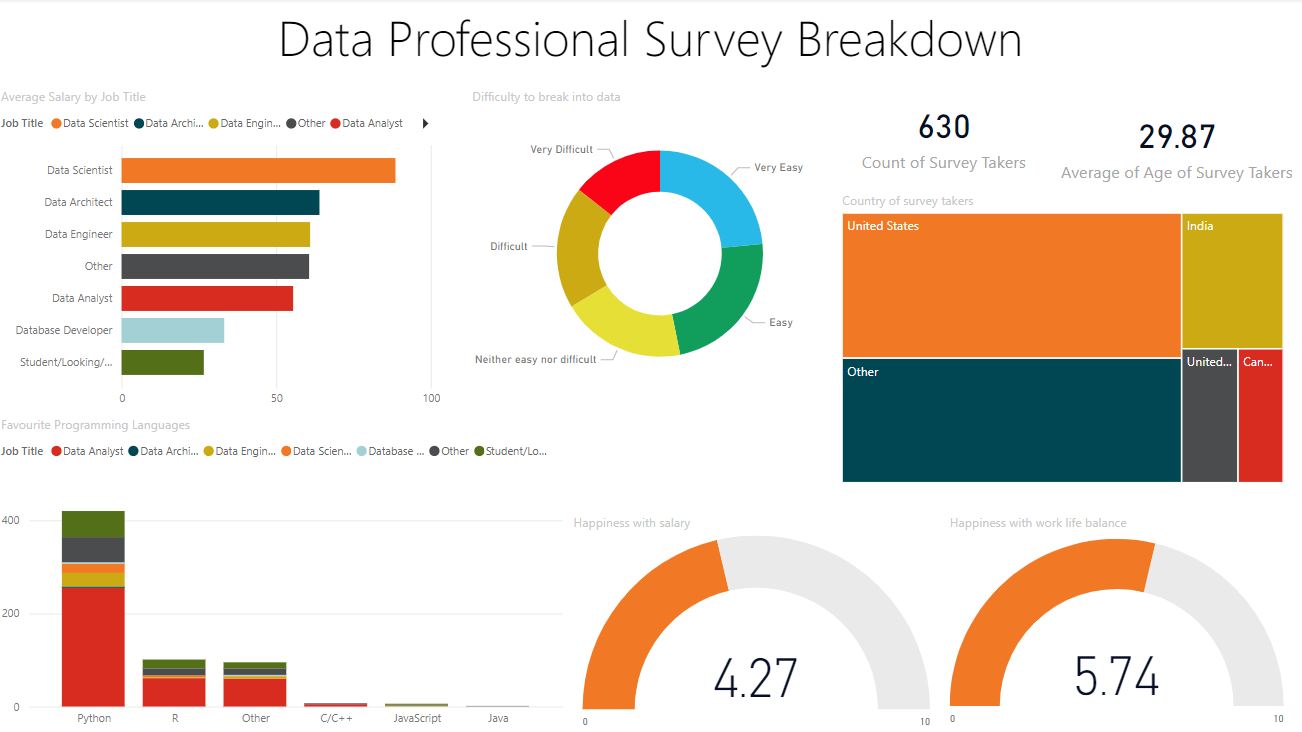

This screenshot's page, from the dashboard's own definition file:
{"tool":"powerbi","page":{"name":"Page 1","canvas":[1280,720],"ordinal":0},"visuals":[{"type":"textbox","box":[10,0,280,280],"z":0},{"type":"textbox","box":[10,290,280,280],"z":1000},{"type":"textbox","box":[10,570,280,150],"z":2000},{"type":"textbox","box":[300,0,280,280],"z":3000},{"type":"textbox","box":[0,0,1280.3,78.4],"z":4000},{"type":"card","fields":{"Values":["CountNonNull(Data Professional Survey.Unique ID)"]},"box":[838.2,78.4,177.1,110.9],"z":5000},{"type":"card","fields":{"Values":["Avg(Data Professional Survey.Q10 - Current Age)"]},"box":[1028.8,87.9,251.5,110.9],"z":6000},{"type":"barChart","title":"Average Salary by Job Title","fields":{"Category":["Data Professional Survey.Q1 - Which Title Best Fits your Current Role?.1"],"Y":["Avg(Data Professional Survey.Average Salary)"],"Series":["Data Professional Survey.Q1 - Which Title Best Fits your Current Role?.1"]},"box":[0,87.9,439.4,320.4],"z":7000},{"type":"columnChart","title":"Favourite Programming Languages","fields":{"Category":["Data Professional Survey.Q5 - Favorite Programming Language.1"],"Y":["CountNonNull(Data Professional Survey.Unique ID)"],"Series":["Data Professional Survey.Q1 - Which Title Best Fits your Current Role?.1"]},"box":[0,408.3,559.7,312.3],"z":8000},{"type":"treemap","title":"Country of survey takers","fields":{"Group":["Data Professional Survey.Q11 - Which Country do you live in?.1"],"Values":["CountNonNull(Data Professional Survey.Q11 - Which Country do you live in?.1)"]},"box":[822.7,189.5,441.3,289.7],"z":8001},{"type":"gauge","title":"Happiness with work life balance","fields":{"Y":["Avg(Data Professional Survey.Q6 - How Happy are you in your Current Position with the following? (Work/Life Balance))"],"MinValue":["Min(Data Professional Survey.Q6 - How Happy are you in your Current Position with the following? (Work/Life Balance))"],"MaxValue":["Max(Data Professional Survey.Q6 - How Happy are you in your Current Position with the following? (Work/Life Balance))1"]},"box":[927.4,504.3,336.6,216.3],"z":8002},{"type":"gauge","title":"Happiness with salary","fields":{"Y":["Avg(Data Professional Survey.Q6 - How Happy are you in your Current Position with the following? (Salary))"],"MinValue":["Min(Data Professional Survey.Q6 - How Happy are you in your Current Position with the following? (Salary))"],"MaxValue":["Max(Data Professional Survey.Q6 - How Happy are you in your Current Position with the following? (Salary))"]},"box":[559.7,504.3,367.7,216.3],"z":8003},{"type":"donutChart","title":"Difficulty to break into data","fields":{"Category":["Data Professional Survey.Q7 - How difficult was it for you to break into Data?"],"Y":["Avg(Data Professional Survey.Average Salary)"]},"box":[461,87.9,377.2,308.2],"z":8004}]}

Visuals, with their boxes in screenshot pixels (x1, y1, x2, y2), scaled from the page's 1280x720 canvas onto the 1302x732 screenshot:
textbox: (10, 0, 295, 285)
textbox: (10, 295, 295, 580)
textbox: (10, 580, 295, 731)
textbox: (305, 0, 590, 285)
textbox: (0, 0, 1301, 80)
card - CountNonNull(Data Professional Survey.Unique ID): (853, 80, 1033, 192)
card - Avg(Data Professional Survey.Q10 - Current Age): (1046, 89, 1301, 202)
"Average Salary by Job Title" barChart: (0, 89, 447, 415)
"Favourite Programming Languages" columnChart: (0, 415, 569, 731)
"Country of survey takers" treemap: (837, 193, 1286, 487)
"Happiness with work life balance" gauge: (943, 513, 1286, 731)
"Happiness with salary" gauge: (569, 513, 943, 731)
"Difficulty to break into data" donutChart: (469, 89, 853, 403)
